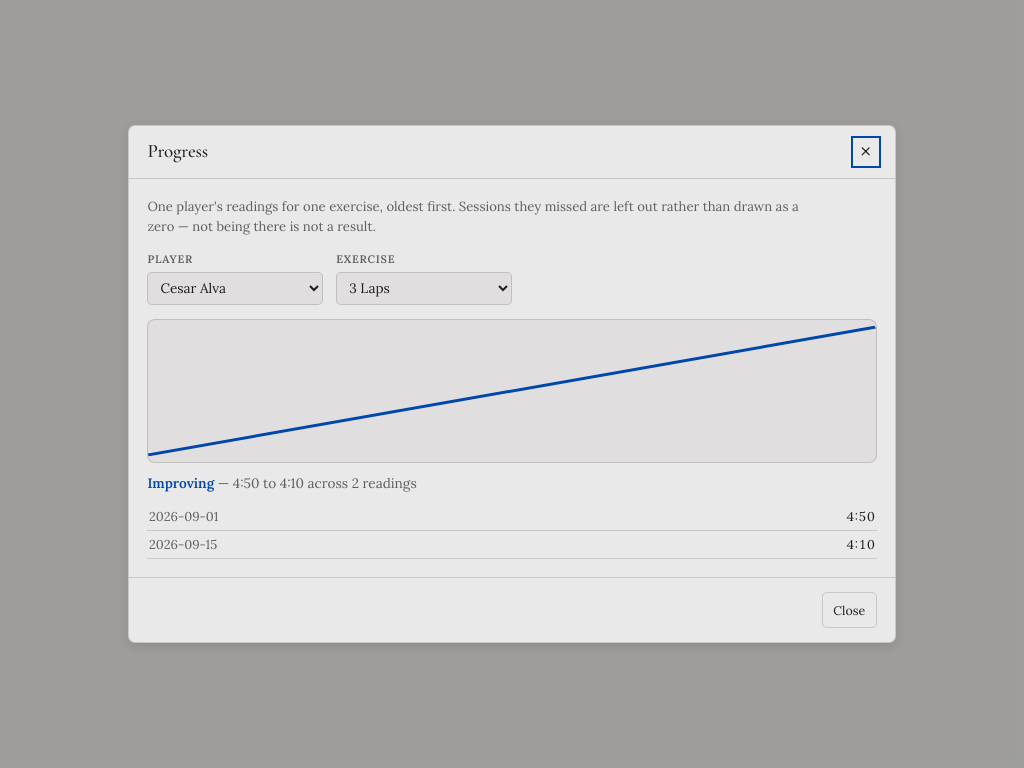
the series › says so when there is nothing recorded
This screenshot has width=1024, height=768.
Select "Tom Budde" in the dropdown labelled "Player" at (235,288), box x1=147 y1=272 x2=323 y2=305
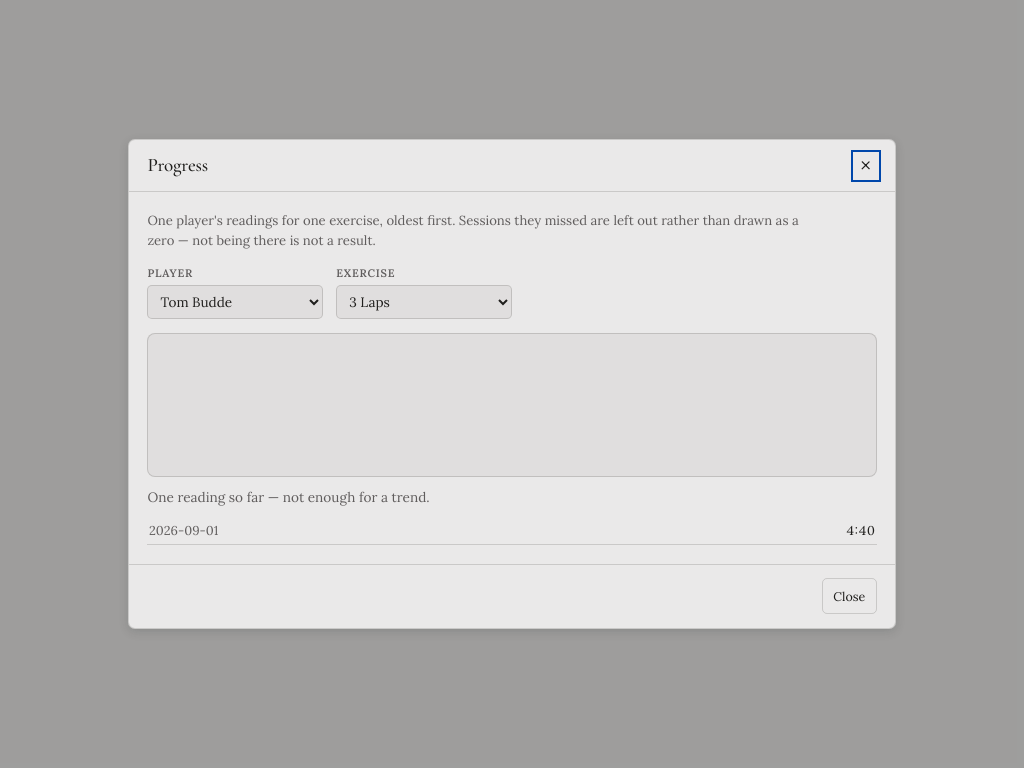
Select "Coopers" in the dropdown labelled "Exercise" at (424,302), box x1=336 y1=286 x2=512 y2=319
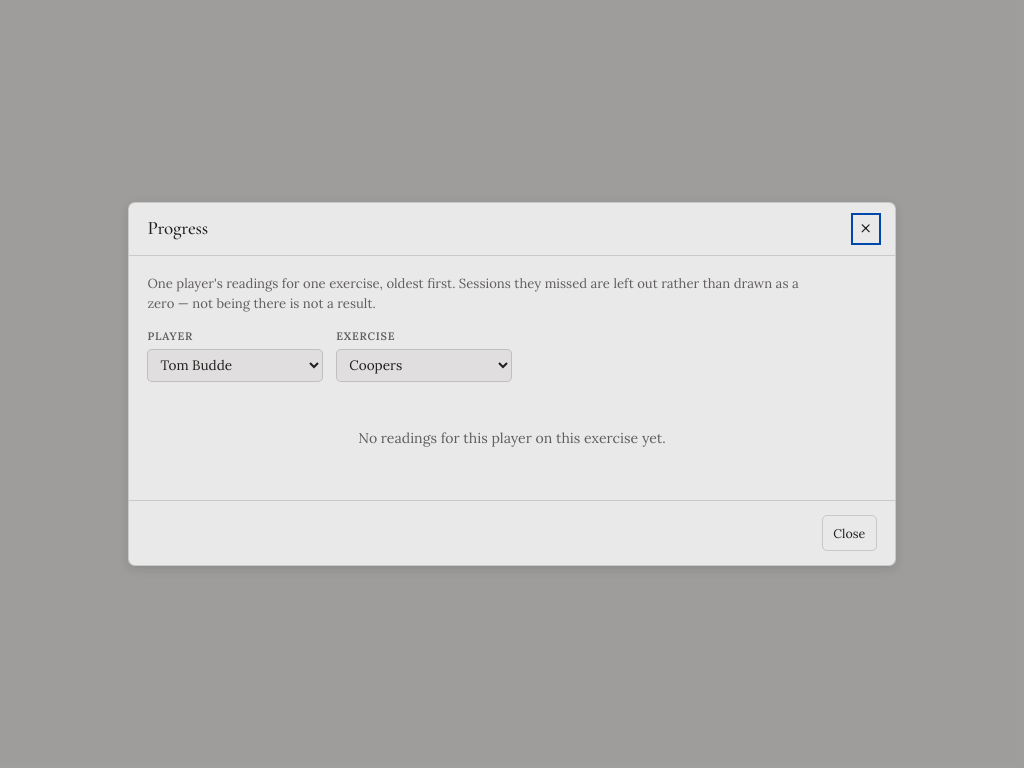
Expected: the text "No readings for this player on this exercise yet." is shown, x1=358 y1=429 x2=666 y2=447
